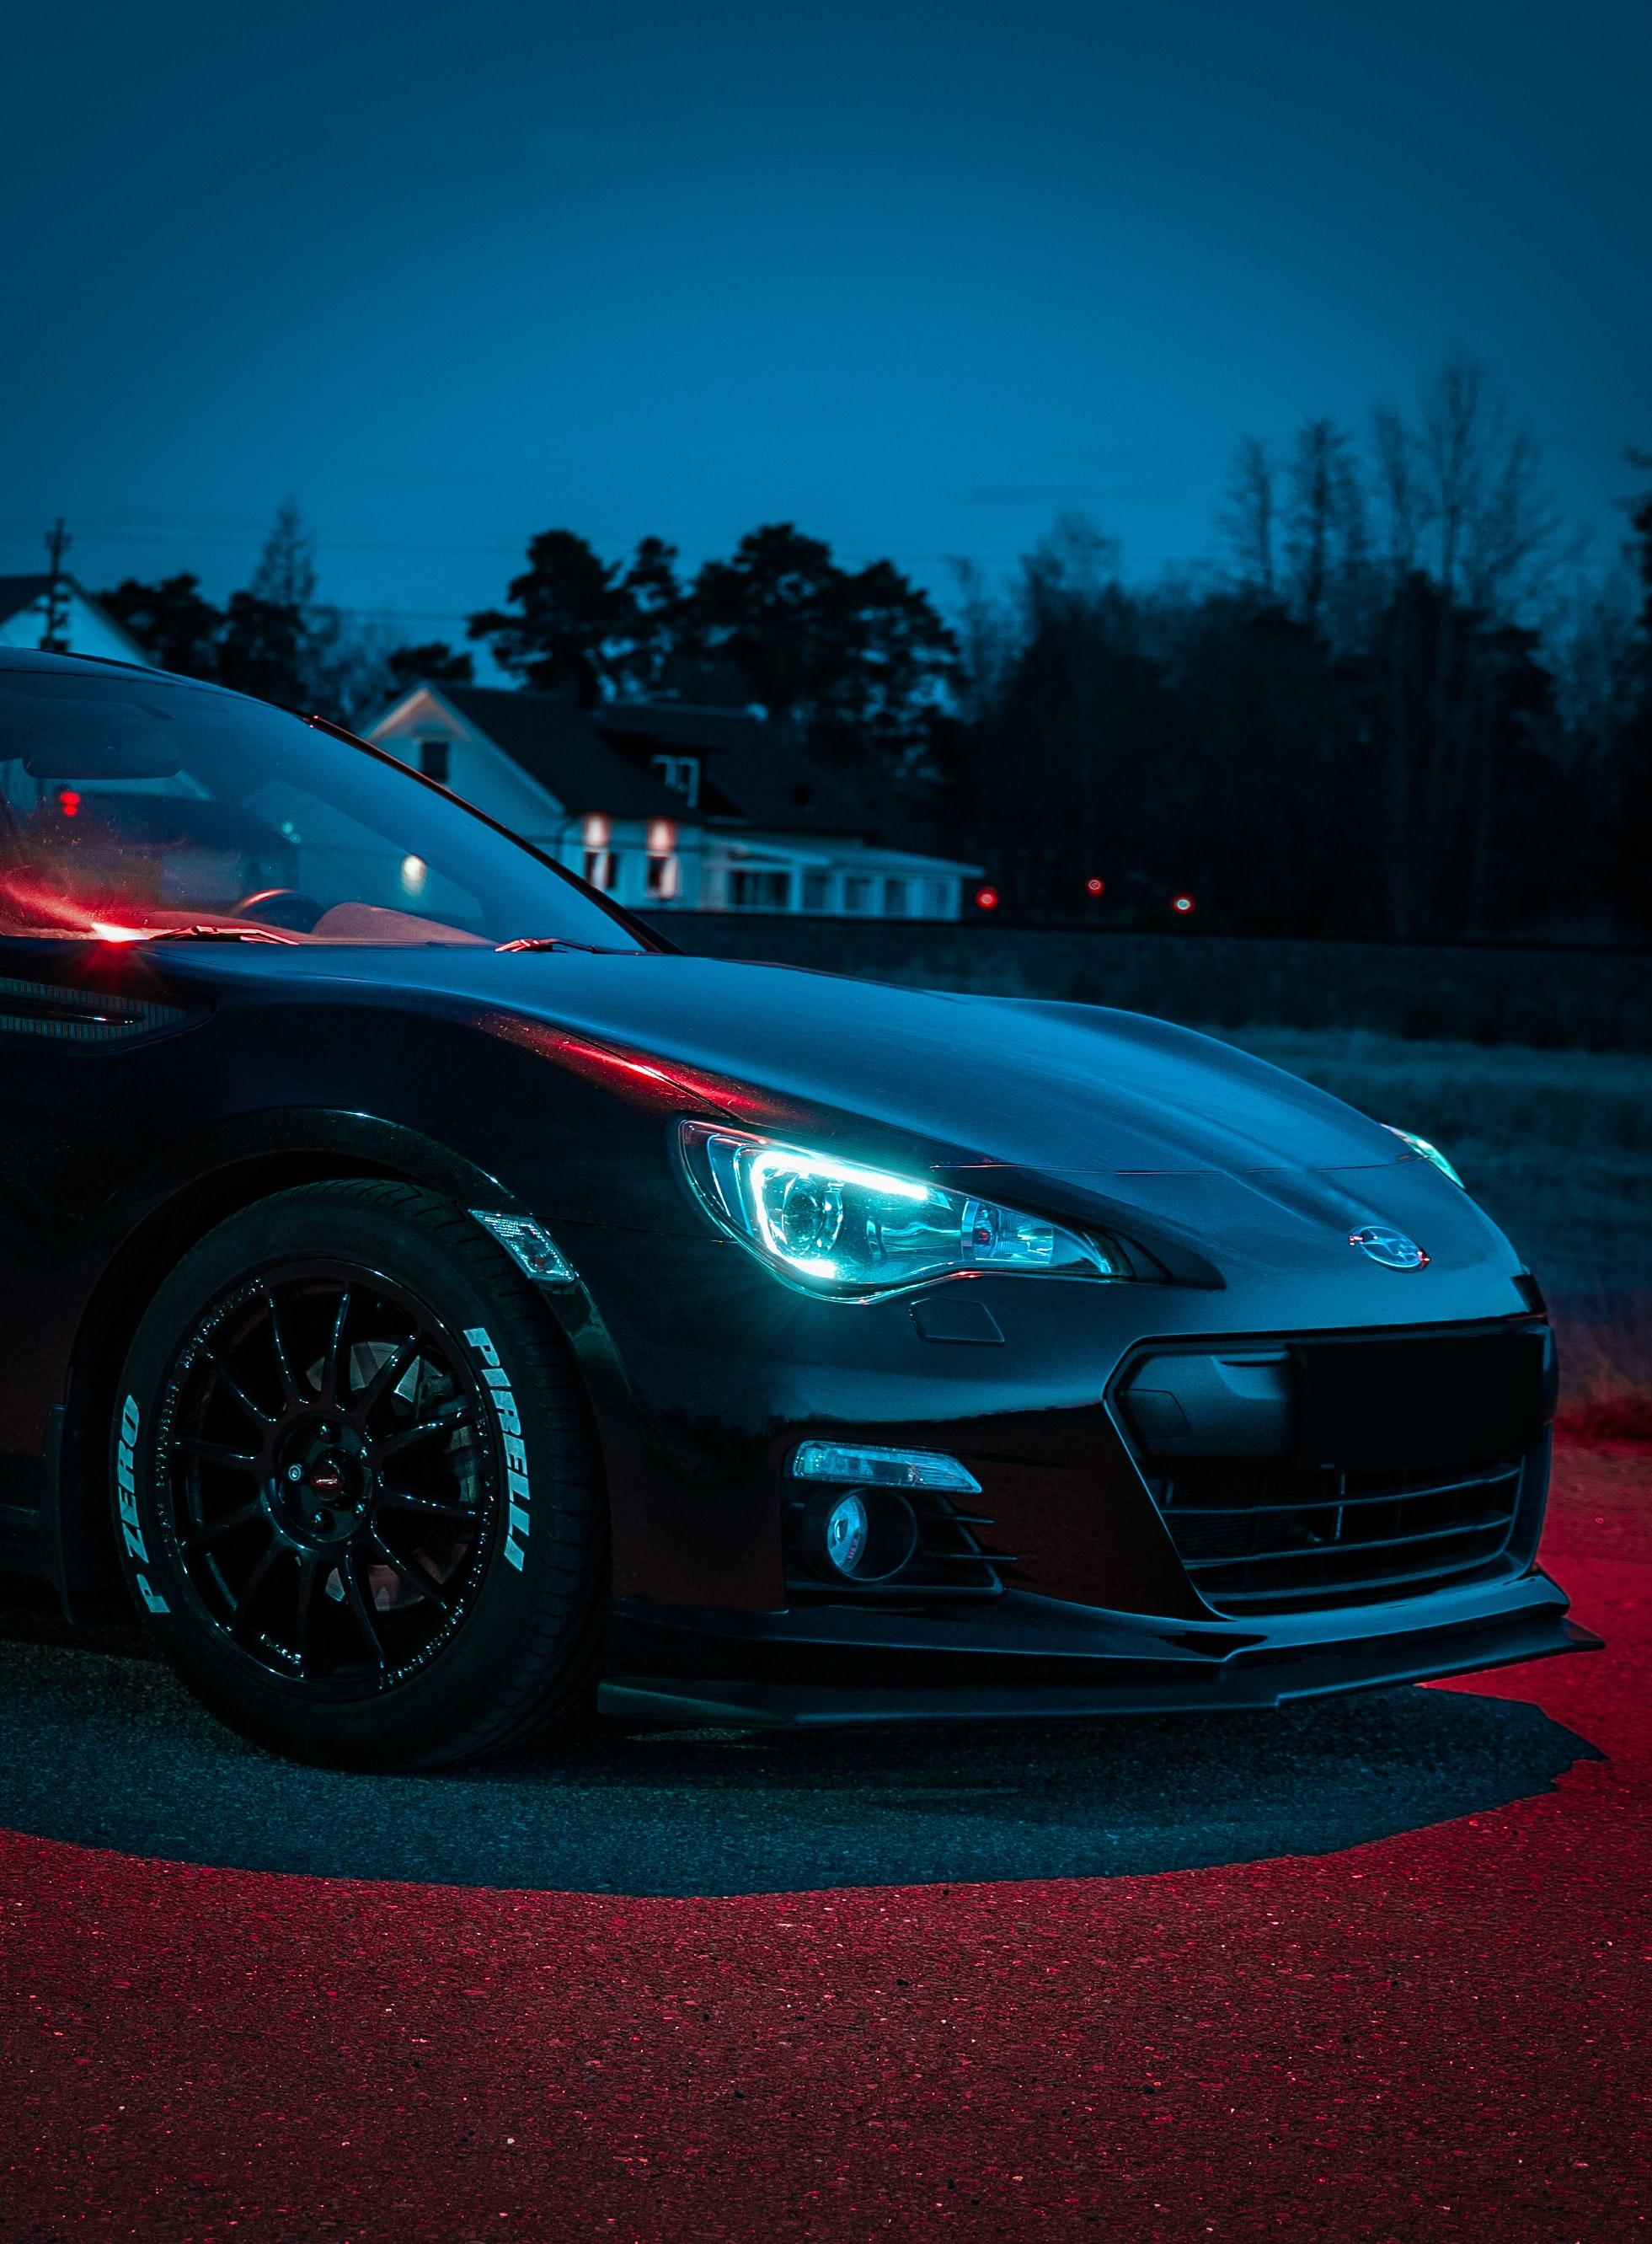subaru: (1298, 1193, 1476, 1324)
